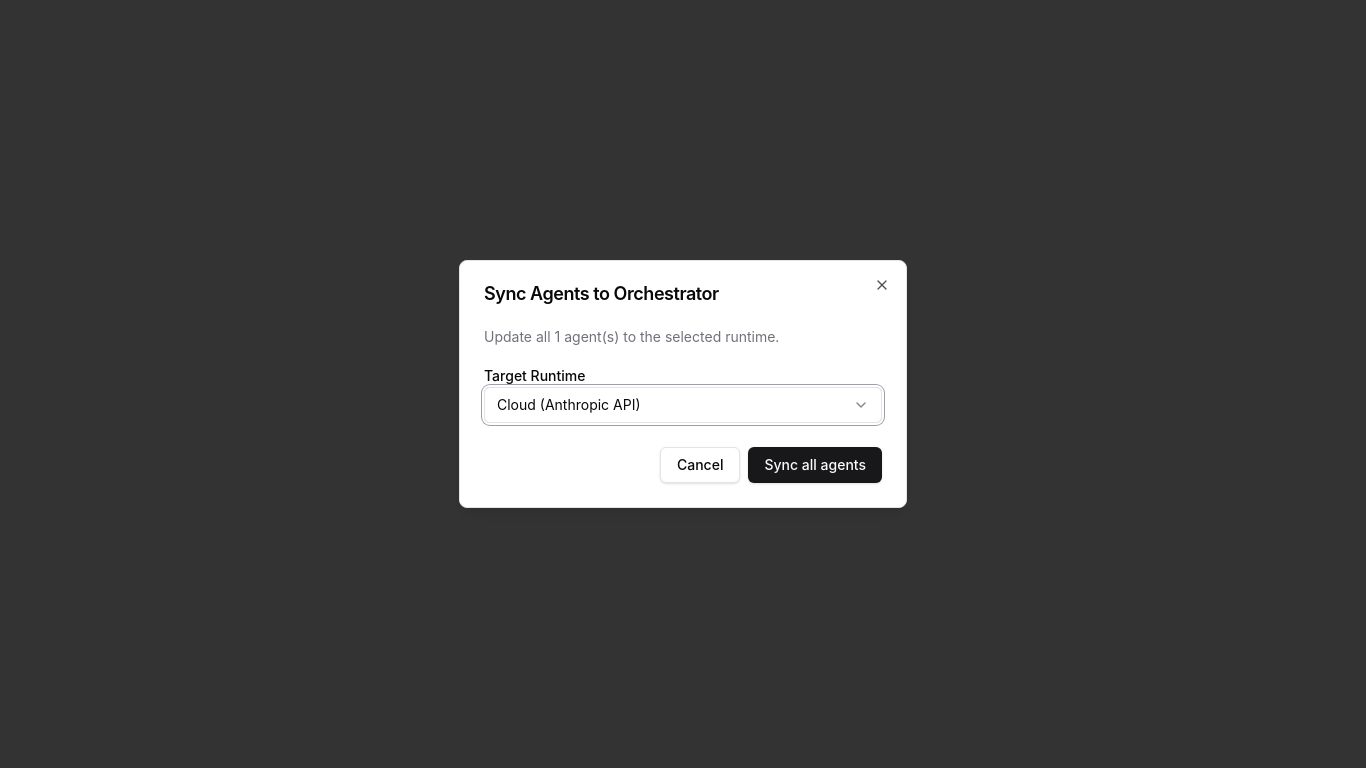
SyncAgentsModal › posts sync on confirm and shows result
Click the button "Sync all agents".
click(815, 465)  # box [748,447,882,483]
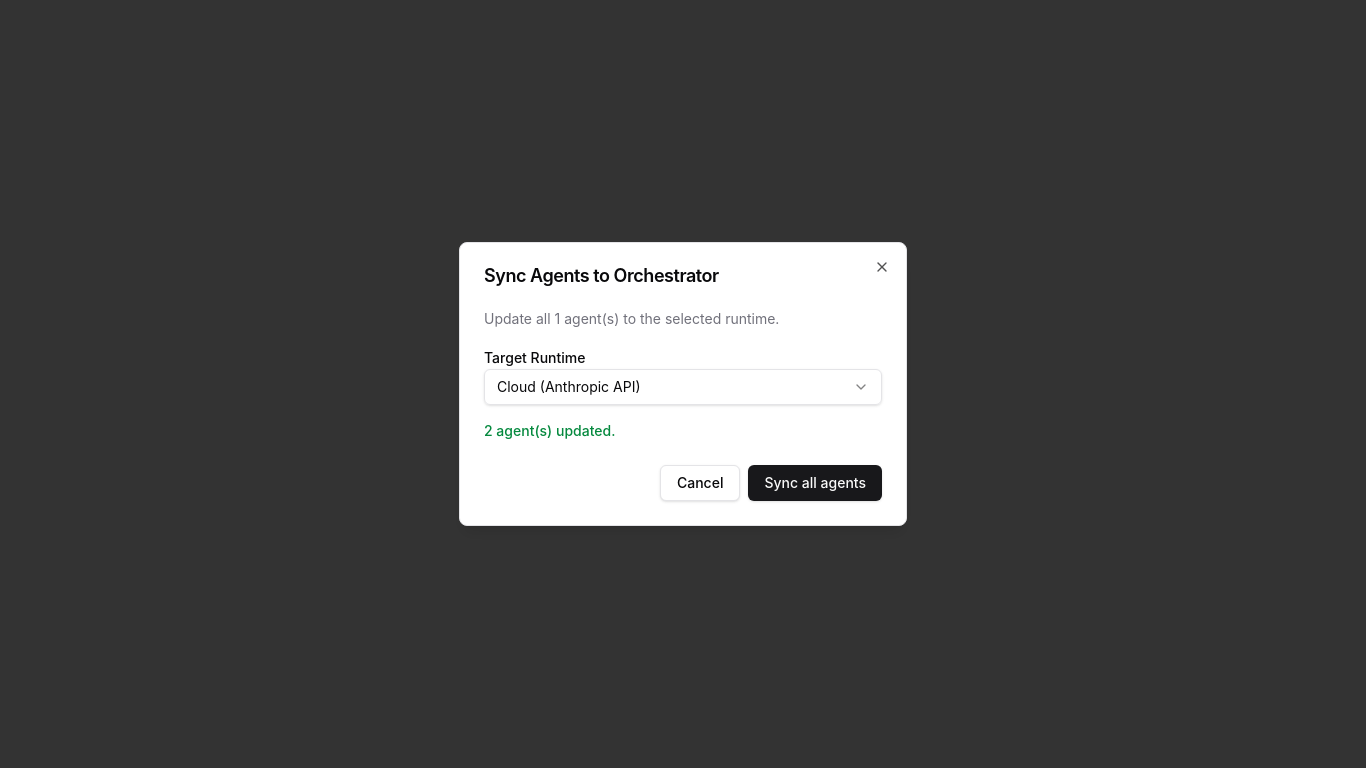
Expected: the text "2 agent(s) updated." is shown, [484,422,615,439]
